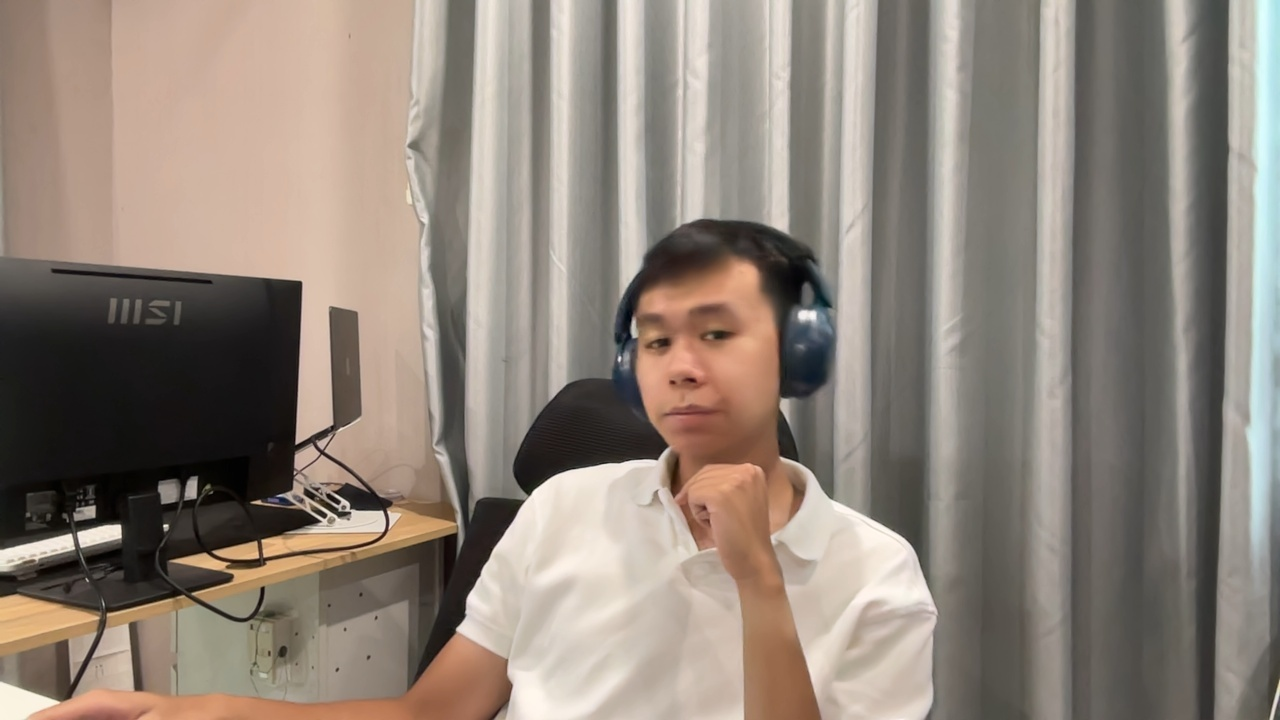over_ear: (633, 219, 839, 405), (692, 220, 839, 403), (747, 221, 839, 403)
